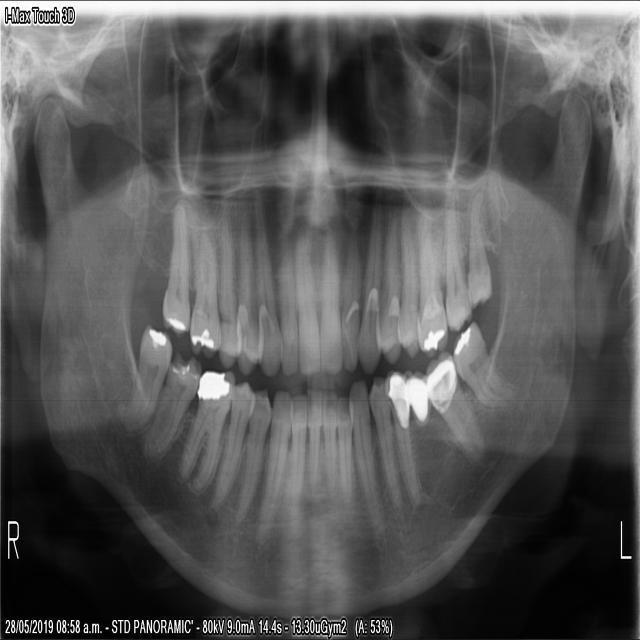LCD: (345, 374, 382, 535)
LCU: (354, 201, 382, 378)
LID: (333, 389, 353, 510), (320, 384, 339, 493)
LIU: (317, 226, 342, 382), (338, 221, 361, 374)
LMD: (421, 344, 488, 467), (448, 315, 515, 414), (400, 364, 432, 433)
LMU: (412, 205, 448, 357), (441, 178, 473, 336), (464, 185, 494, 312)
LPMD: (384, 365, 424, 514), (365, 370, 401, 512)
LPMU: (373, 207, 400, 362), (394, 209, 421, 360)
RCD: (251, 383, 294, 552)
RCU: (250, 180, 283, 379)
RID: (286, 388, 306, 504), (303, 382, 323, 497)
RIU: (292, 222, 321, 379), (272, 229, 297, 382)
RMD: (176, 365, 237, 498), (134, 346, 202, 465), (109, 315, 171, 440)
RMU: (185, 205, 220, 355), (158, 192, 189, 338)
RPMD: (201, 376, 256, 521), (226, 383, 271, 540)
RPMU: (234, 192, 261, 378), (215, 196, 240, 370)
